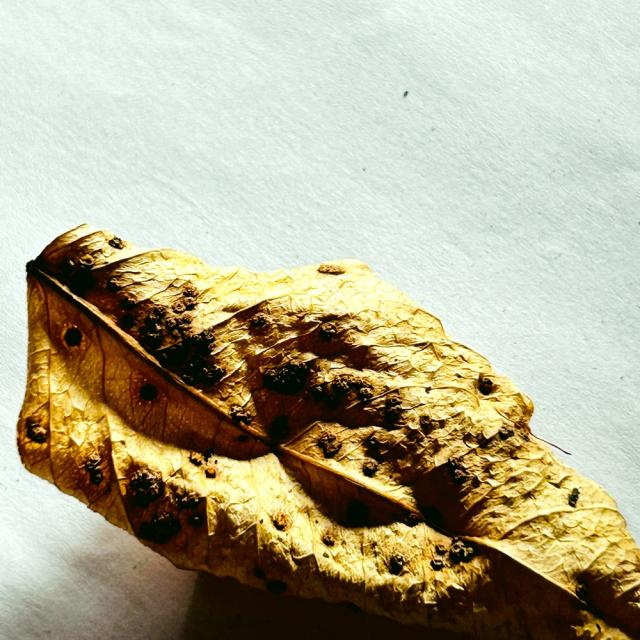DryLeaf_Lemon: (17, 224, 639, 639)
